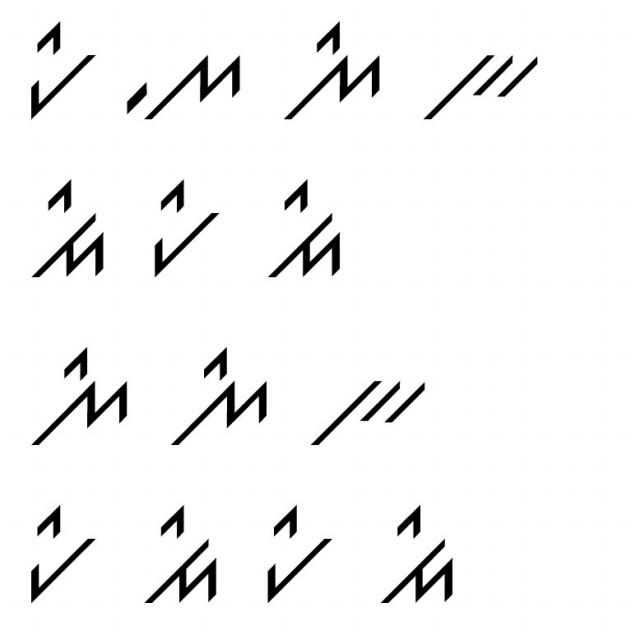di: (254, 173, 354, 284), (370, 498, 466, 610), (130, 504, 231, 610), (24, 174, 110, 284)
ni: (19, 339, 136, 454), (276, 14, 390, 127), (163, 340, 274, 450)
pi: (132, 172, 222, 279), (18, 19, 100, 125), (21, 501, 102, 605), (260, 504, 341, 606)
